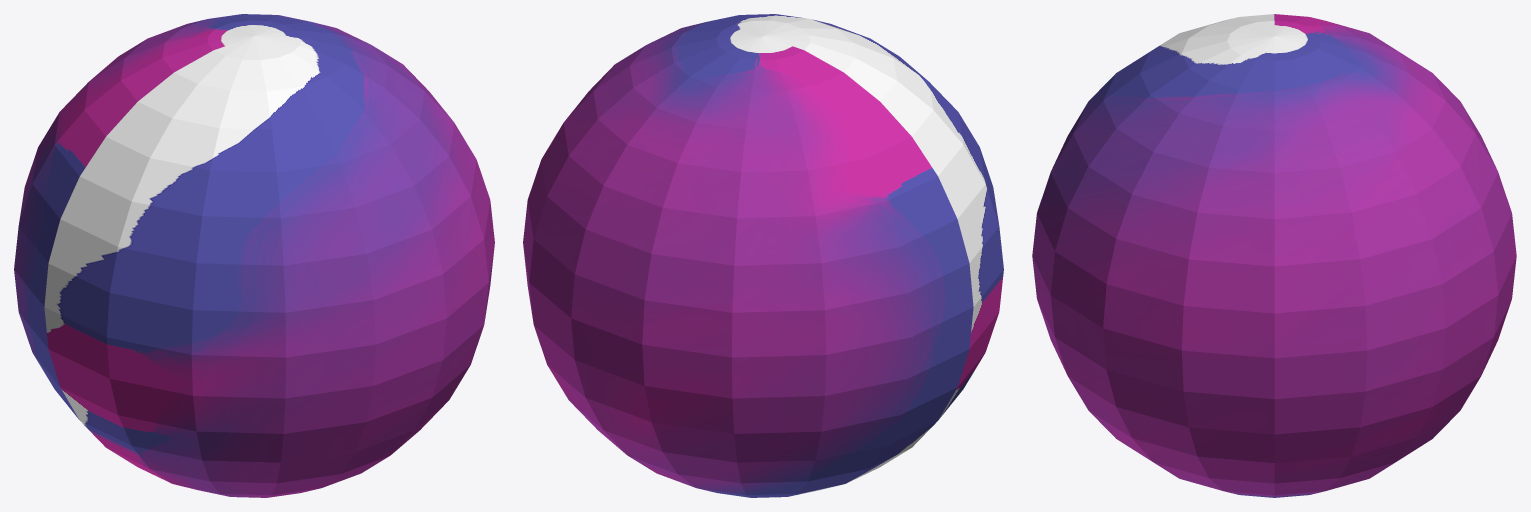
The model's file is nebula.obj.
The picture shows the model from 3 angles, left to right: view 1: azimuth 30°, elevation 25°; view 2: azimuth 150°, elevation 25°; view 3: azimuth 270°, elevation 25°; orthographic projection.
Parts seen in each view (by area): view 1: Nebula; view 2: Nebula; view 3: Nebula.
Part boxes in pixels (x1=…): Nebula: x1=14, y1=14, x2=494, y2=497; Nebula: x1=523, y1=14, x2=1003, y2=497; Nebula: x1=1032, y1=14, x2=1516, y2=497.
Bounding box in the file's own units: 2 × 2 × 2.
Materials: 1 (1 with a texture image).
